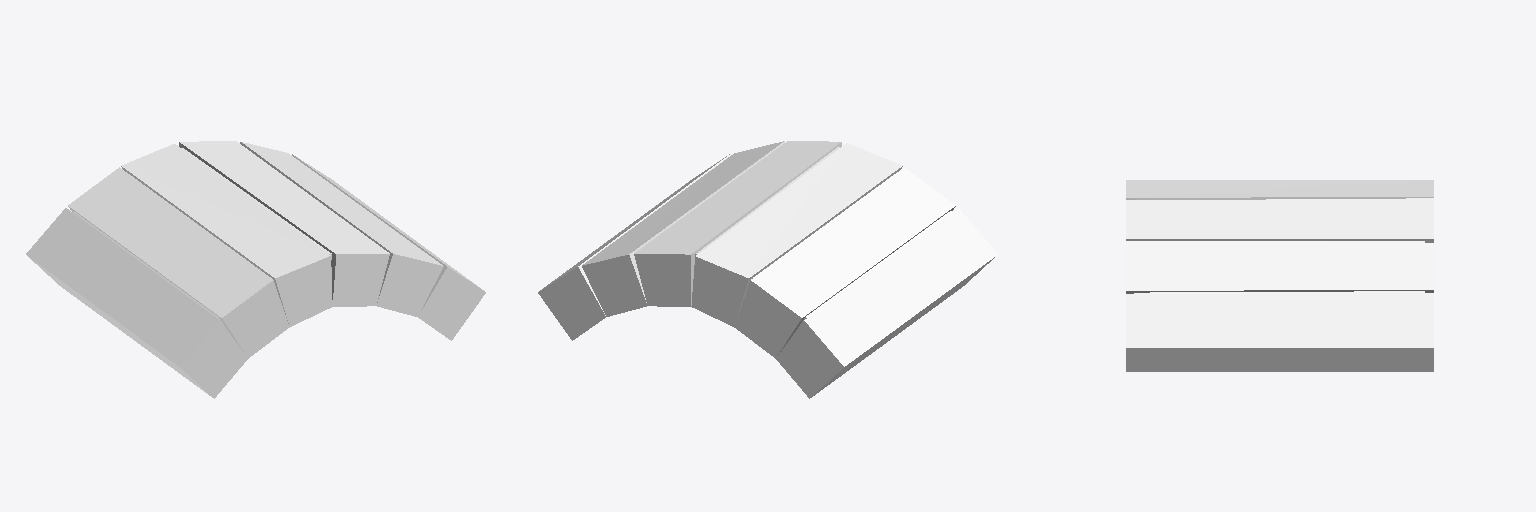
Rendered from generic_segmental_arch_1.obj.
3 renders of one model, left to right at view 1: azimuth 30°, elevation 25°; view 2: azimuth 150°, elevation 25°; view 3: azimuth 270°, elevation 25°, orthographic.
Visible parts, largest first — view 1: cube.037, cube.036, cube.035, cube.034, cube.033, cube.032; view 2: cube.037, cube.036, cube.035, cube.034, cube.033, cube.032; view 3: cube.032, cube.033, cube.034, cube.035.
Part boxes in pixels (x1,y1,x2,y2): cube.037: (26, 208, 247, 398); cube.036: (68, 167, 289, 358); cube.035: (121, 144, 332, 326); cube.034: (179, 141, 389, 306); cube.033: (240, 142, 443, 316); cube.032: (292, 154, 485, 340); cube.037: (776, 208, 997, 398); cube.036: (734, 167, 955, 358); cube.035: (691, 143, 902, 326); cube.034: (634, 141, 841, 306); cube.033: (582, 141, 784, 316); cube.032: (538, 154, 730, 340); cube.032: (1126, 293, 1433, 371); cube.033: (1126, 241, 1433, 293); cube.034: (1126, 198, 1433, 242); cube.035: (1126, 180, 1433, 199).
Bounding box in the file's own units: 1.29 × 0.4657 × 1.13.